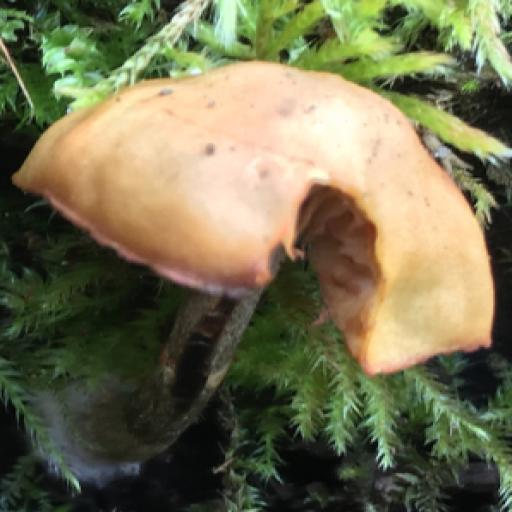mushroom: (8, 52, 505, 409)
